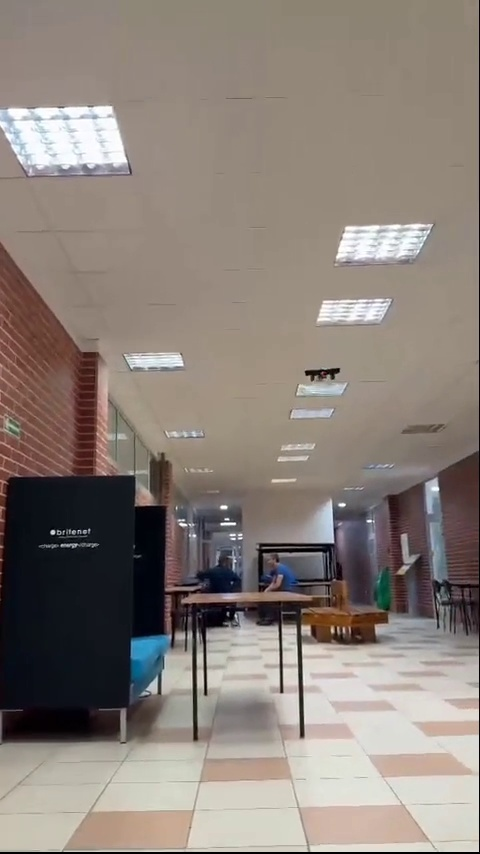drone: (305, 367, 341, 386)
no vest: (195, 554, 243, 595), (265, 548, 300, 593)
